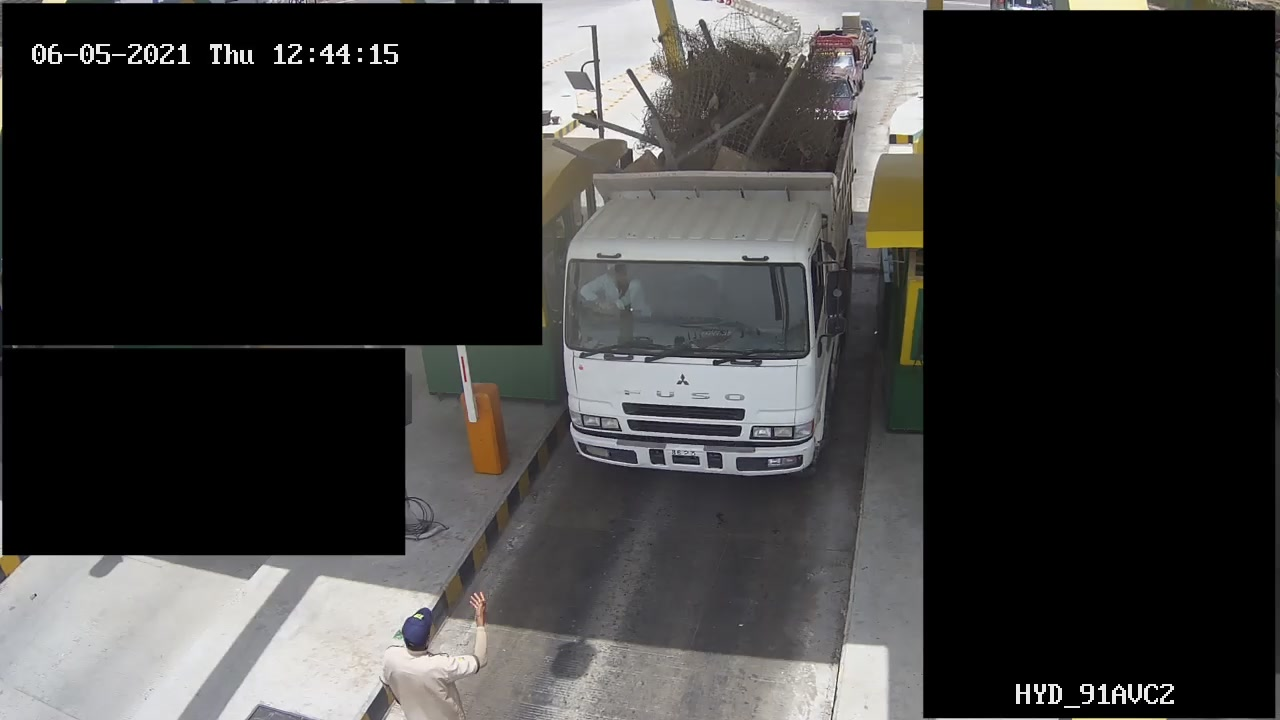F5: (556, 32, 874, 489)
